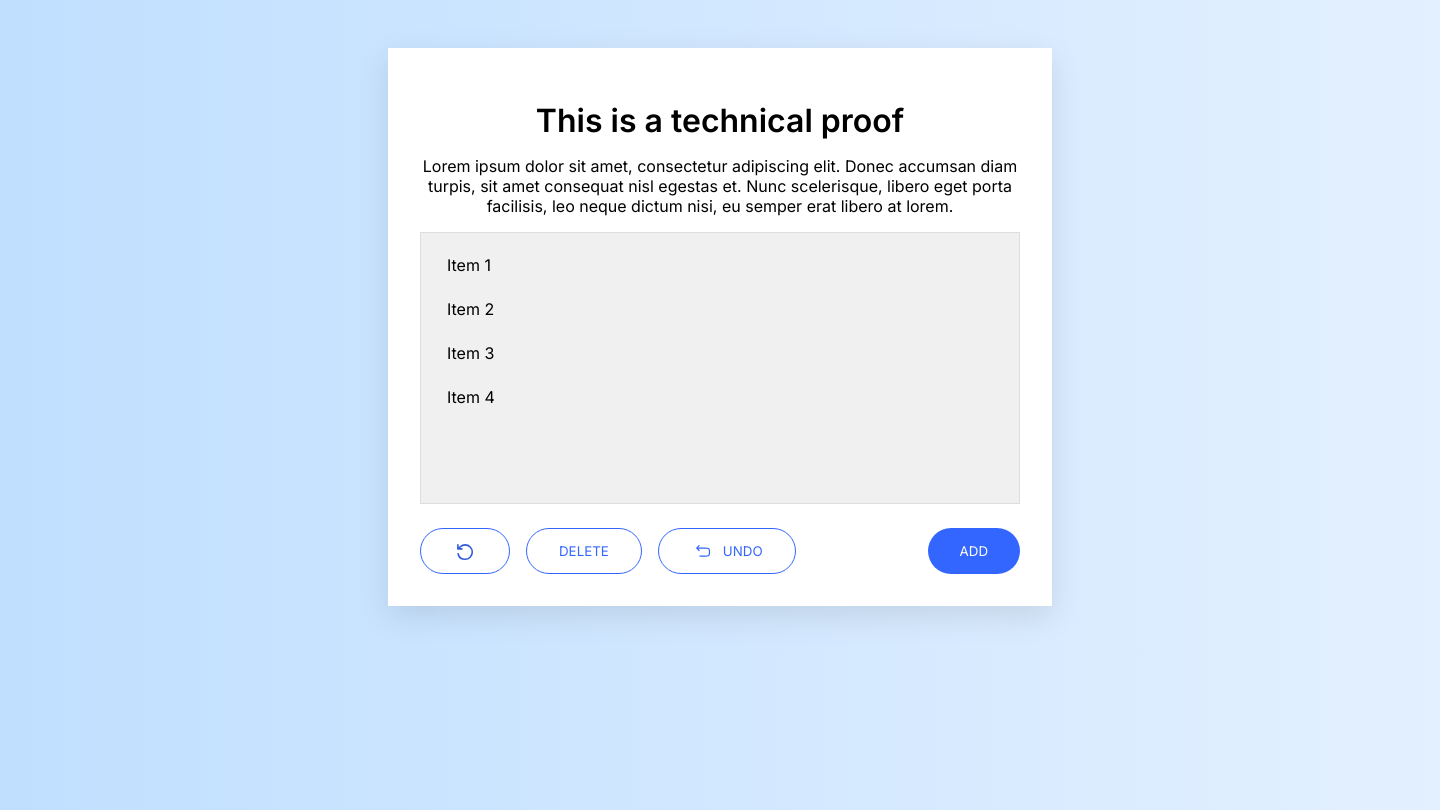
Test case: Home component › resets the list after an item was removed
Double-click the option "Item 3" at (471, 353), box [447,343,494,363]
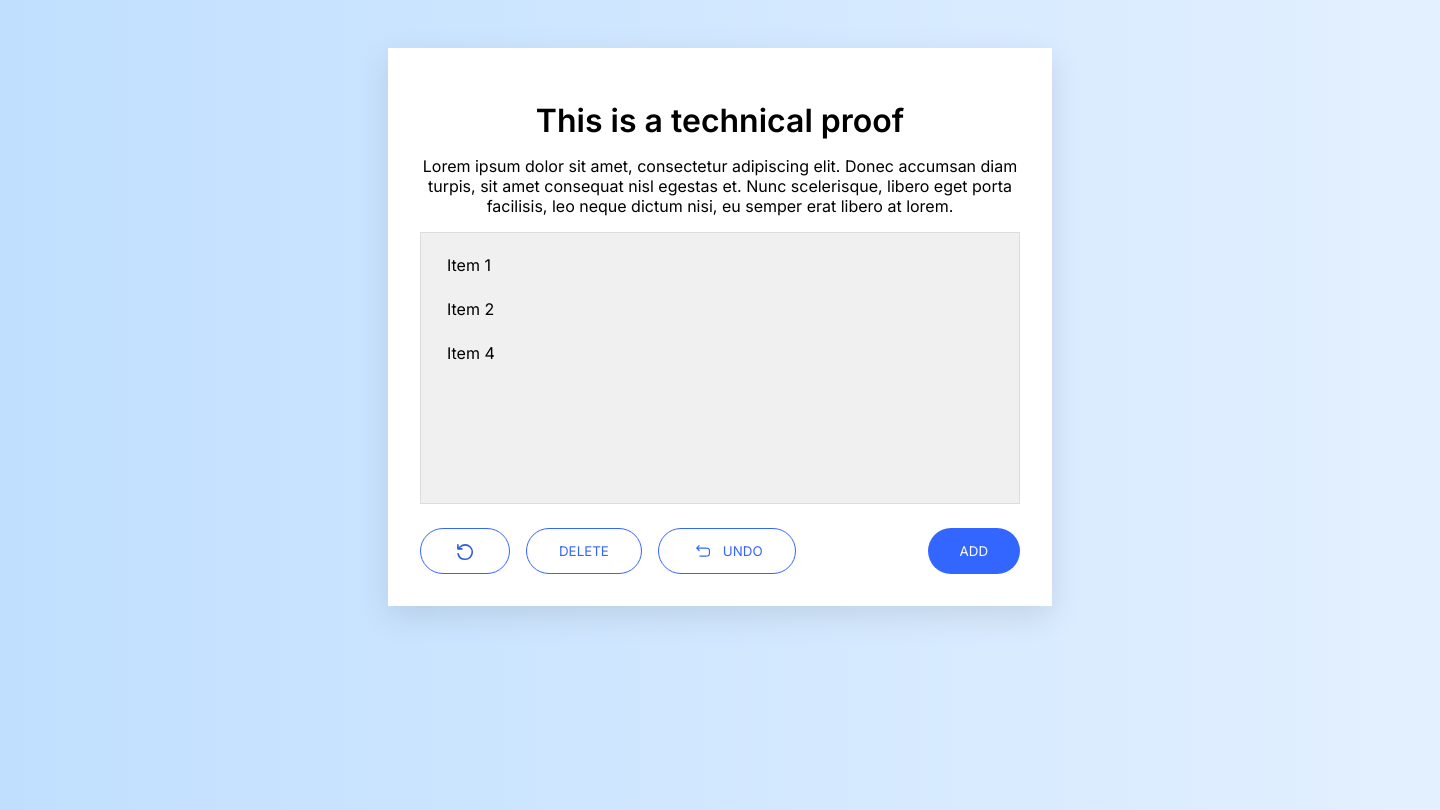
Check: the option "Item 3" is gone
Click the 1st button at (465, 551), box [420,528,510,574]
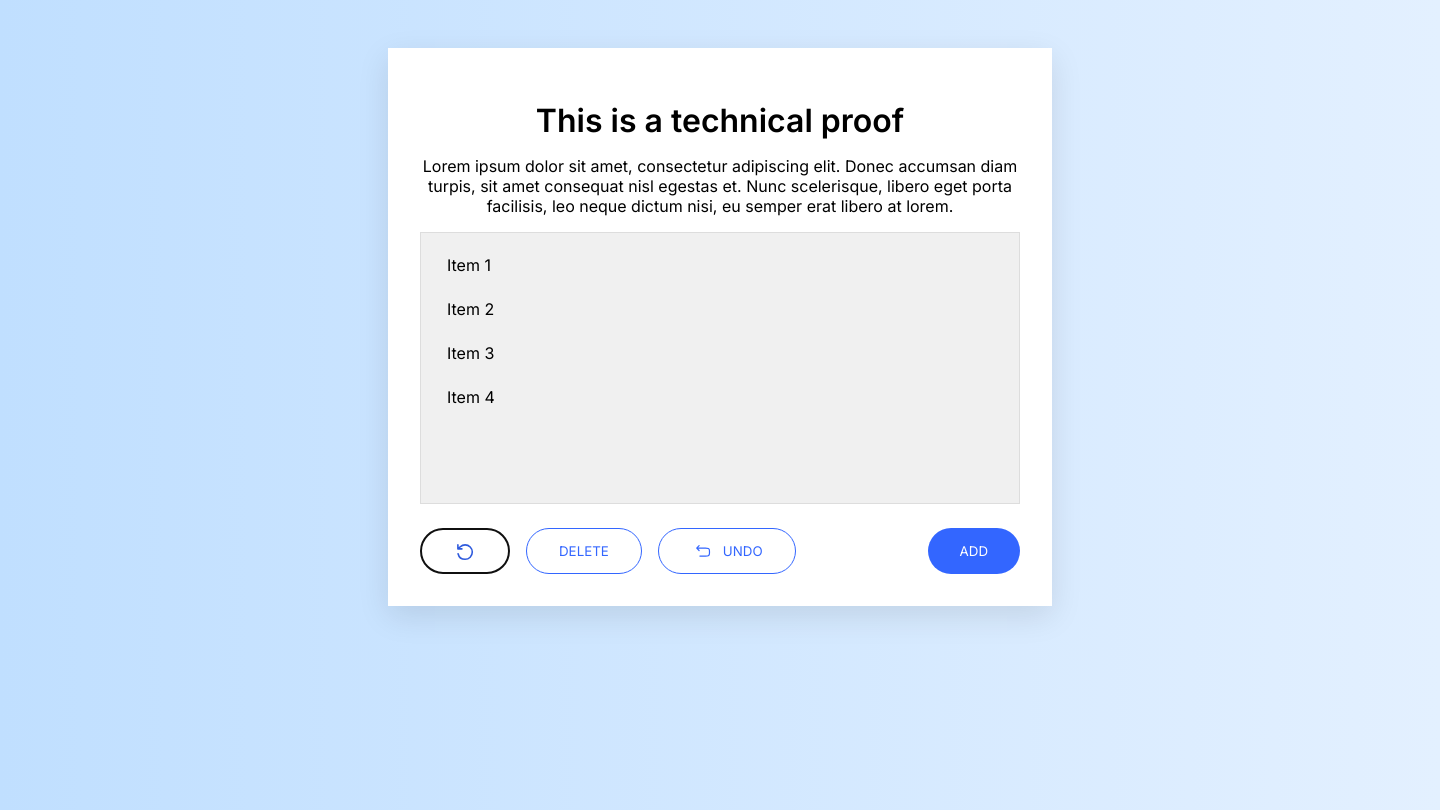
Check: the option "Item 3" is shown, box [447,343,494,363]
